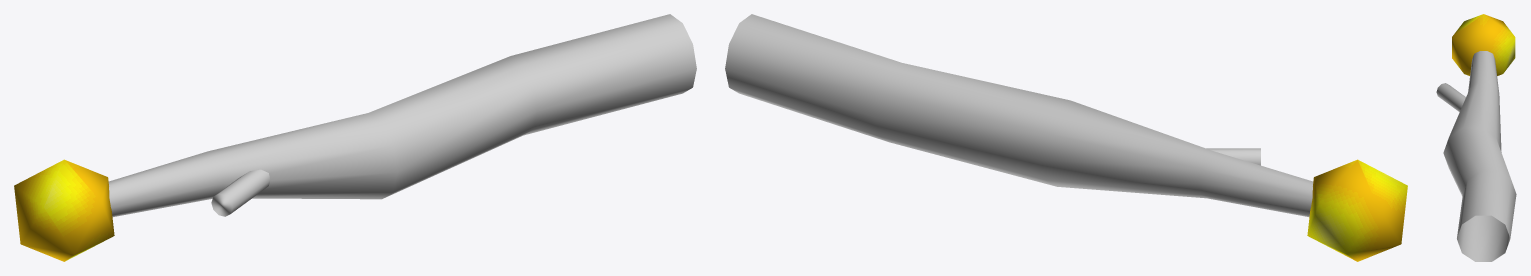
File: staff.fbx
The picture shows the model from 3 angles, left to right: view 1: azimuth 30°, elevation 25°; view 2: azimuth 150°, elevation 25°; view 3: azimuth 270°, elevation 25°; orthographic projection. The views are drawn at different scales.
Visible parts, largest first — view 1: Cylinder, Icosphere, Cylinder.001; view 2: Cylinder, Icosphere, Cylinder.001; view 3: Cylinder, Icosphere, Cylinder.001.
Part boxes in pixels (<box>): Cylinder: <box>108,14,696,216</box>; Icosphere: <box>14,159,114,261</box>; Cylinder.001: <box>211,169,270,216</box>; Cylinder: <box>725,14,1313,216</box>; Icosphere: <box>1307,159,1407,261</box>; Cylinder.001: <box>1206,148,1260,165</box>; Cylinder: <box>1443,51,1516,261</box>; Icosphere: <box>1452,14,1515,75</box>; Cylinder.001: <box>1436,83,1465,111</box>.
Size of the model in its own units: 857 by 128 by 138.
